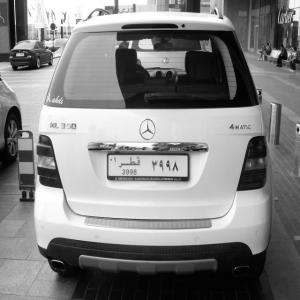Plate: (107, 153, 189, 181)
